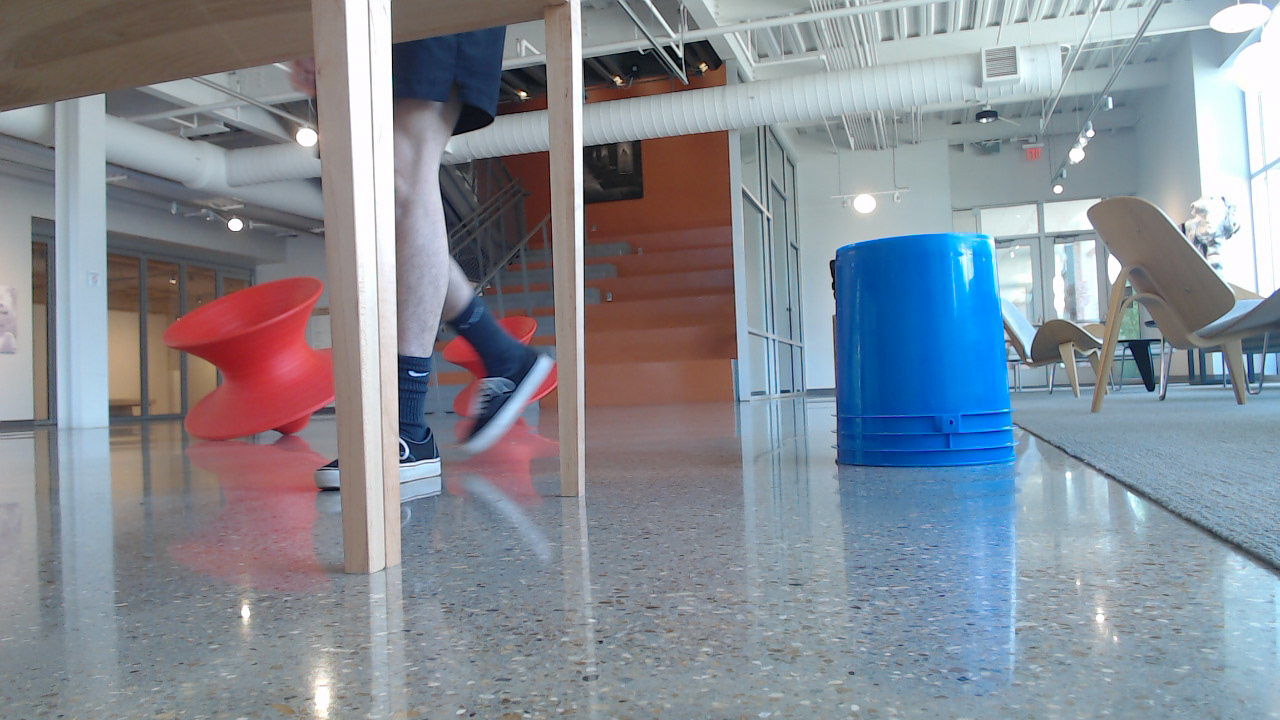blue_bucket: (839, 236, 1022, 473)
